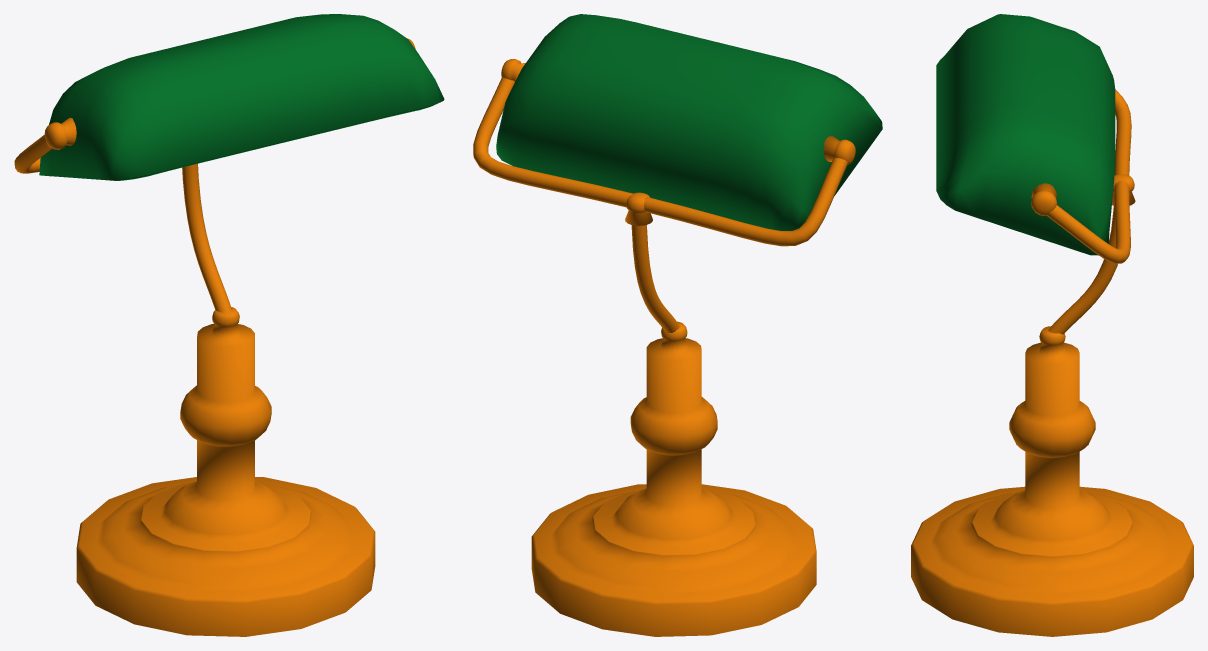
The model's file is lamp-bank.fbx.
The picture shows the model from 3 angles, left to right: view 1: azimuth 30°, elevation 25°; view 2: azimuth 150°, elevation 25°; view 3: azimuth 270°, elevation 25°; orthographic projection. The views are drawn at different scales.
Parts seen in each view (by area): view 1: lamp-bank; view 2: lamp-bank; view 3: lamp-bank.
Part boxes in pixels (left/top/right/bottom): lamp-bank: left=14, top=14, right=444, bottom=636; lamp-bank: left=473, top=14, right=882, bottom=636; lamp-bank: left=911, top=14, right=1193, bottom=636.
Size of the model in its own units: 27.69 by 39.5 by 19.8.
